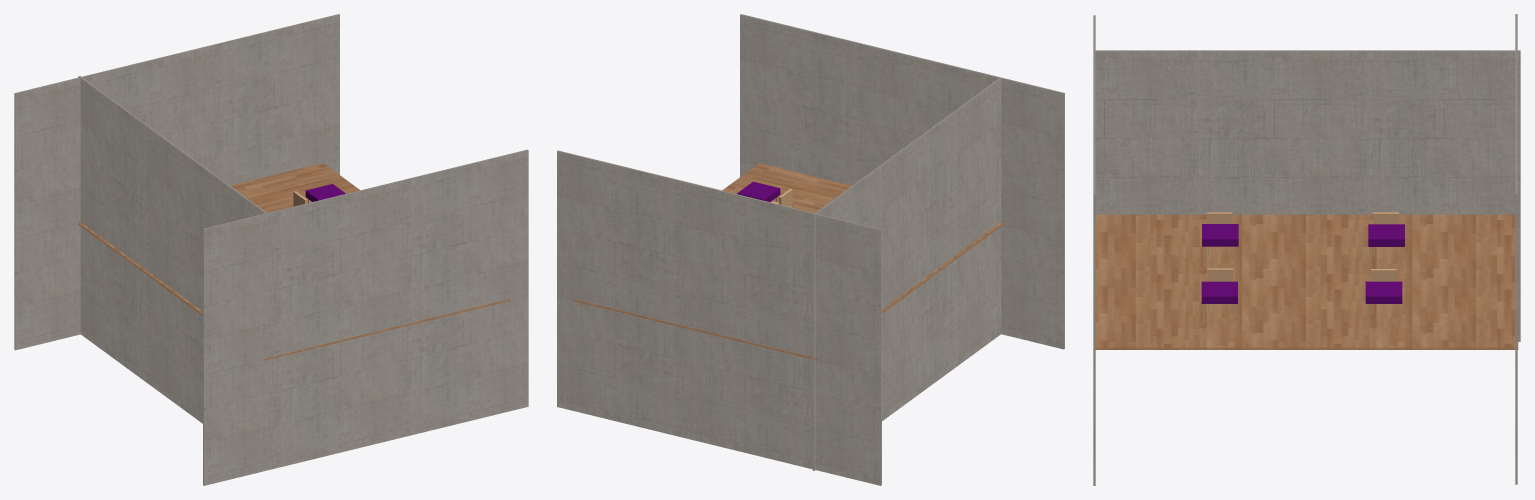
File: classroom.glb
The picture shows the model from 3 angles, left to right: view 1: azimuth 30°, elevation 25°; view 2: azimuth 150°, elevation 25°; view 3: azimuth 270°, elevation 25°; orthographic projection. The views are drawn at different scales.
Parts seen in each view (by area): view 1: sidewall, sidewall.001, backwall, floor; view 2: sidewall.001, sidewall, backwall, floor, Cube.048; view 3: backwall, floor, sidewall, sidewall.001, Cube.043, Cube.033, Cube.038, Cube.048.
Part boxes in pixels (box(x1,y1,x2,y2)): sidewall: box(203, 149, 528, 485); sidewall.001: box(14, 14, 339, 350); backwall: box(78, 76, 266, 423); floor: box(78, 163, 509, 360); sidewall.001: box(557, 150, 881, 485); sidewall: box(740, 14, 1064, 349); backwall: box(812, 78, 1001, 470); floor: box(573, 163, 1003, 360); Cube.048: box(737, 181, 780, 201); backwall: box(1095, 50, 1520, 341); floor: box(1095, 214, 1518, 349); sidewall: box(1093, 15, 1095, 485); sidewall.001: box(1515, 14, 1517, 484); Cube.043: box(1365, 281, 1402, 303); Cube.033: box(1202, 224, 1238, 246); Cube.038: box(1368, 224, 1404, 246); Cube.048: box(1201, 281, 1237, 303).
Bounding box in the file's own units: 32.66 × 24.46 × 32.59.
Materials: 4 (2 with a texture image).
